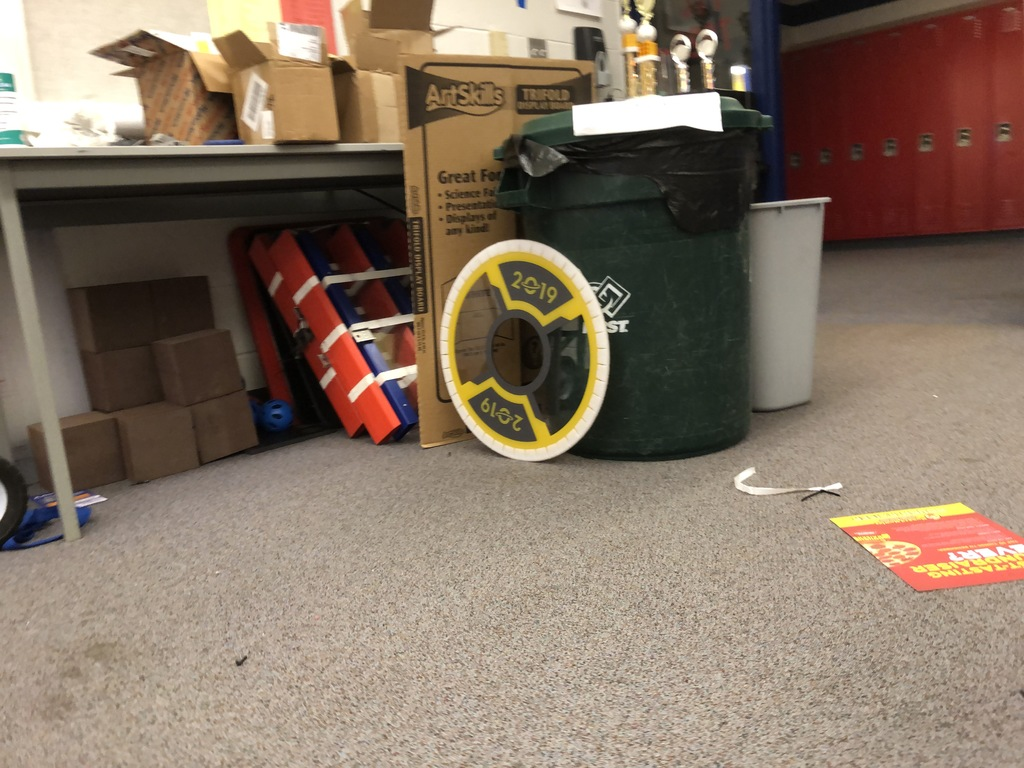hatch_panel: (432, 232, 613, 475)
